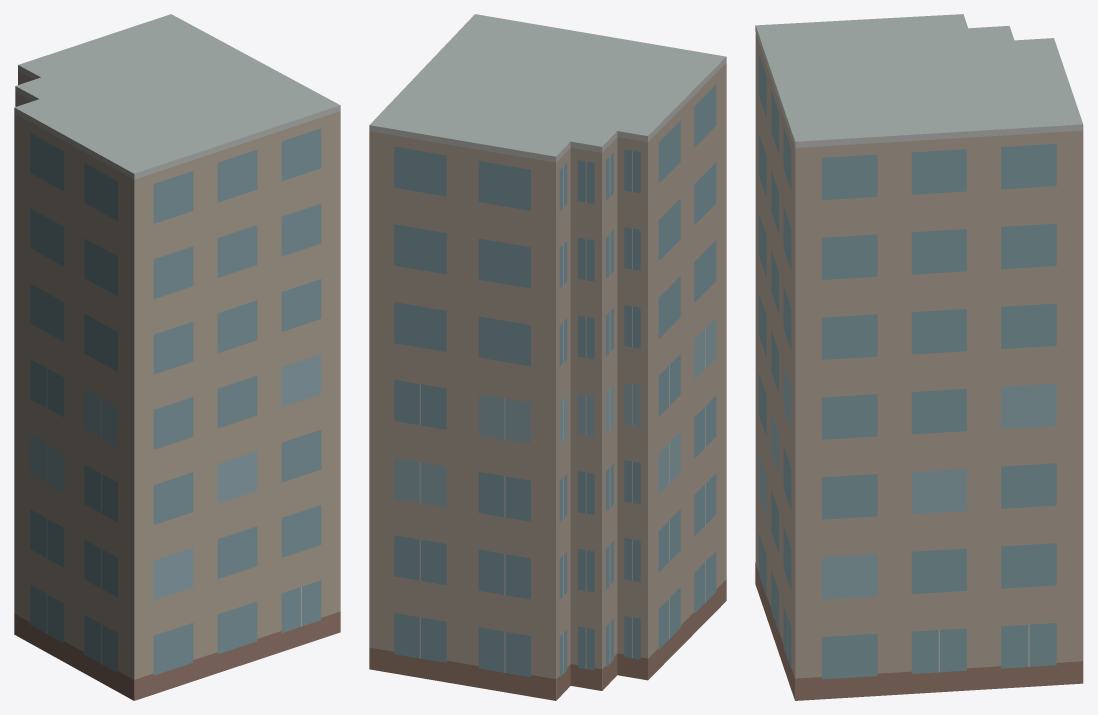
Rendered from survey-upis-32742063.glb.
The picture shows the model from 3 angles, left to right: view 1: azimuth 30°, elevation 25°; view 2: azimuth 150°, elevation 25°; view 3: azimuth 270°, elevation 25°; orthographic projection. The views are drawn at different scales.
Visible parts, largest first — view 1: survey-upis-32742063.tmp; view 2: survey-upis-32742063.tmp; view 3: survey-upis-32742063.tmp.
Boxes of the visible parts, left/top/right/bottom form: survey-upis-32742063.tmp: left=14, top=14, right=340, bottom=700; survey-upis-32742063.tmp: left=369, top=14, right=726, bottom=700; survey-upis-32742063.tmp: left=755, top=14, right=1083, bottom=700.
Bounding box in the file's own units: 10.79 × 22 × 11.7.
